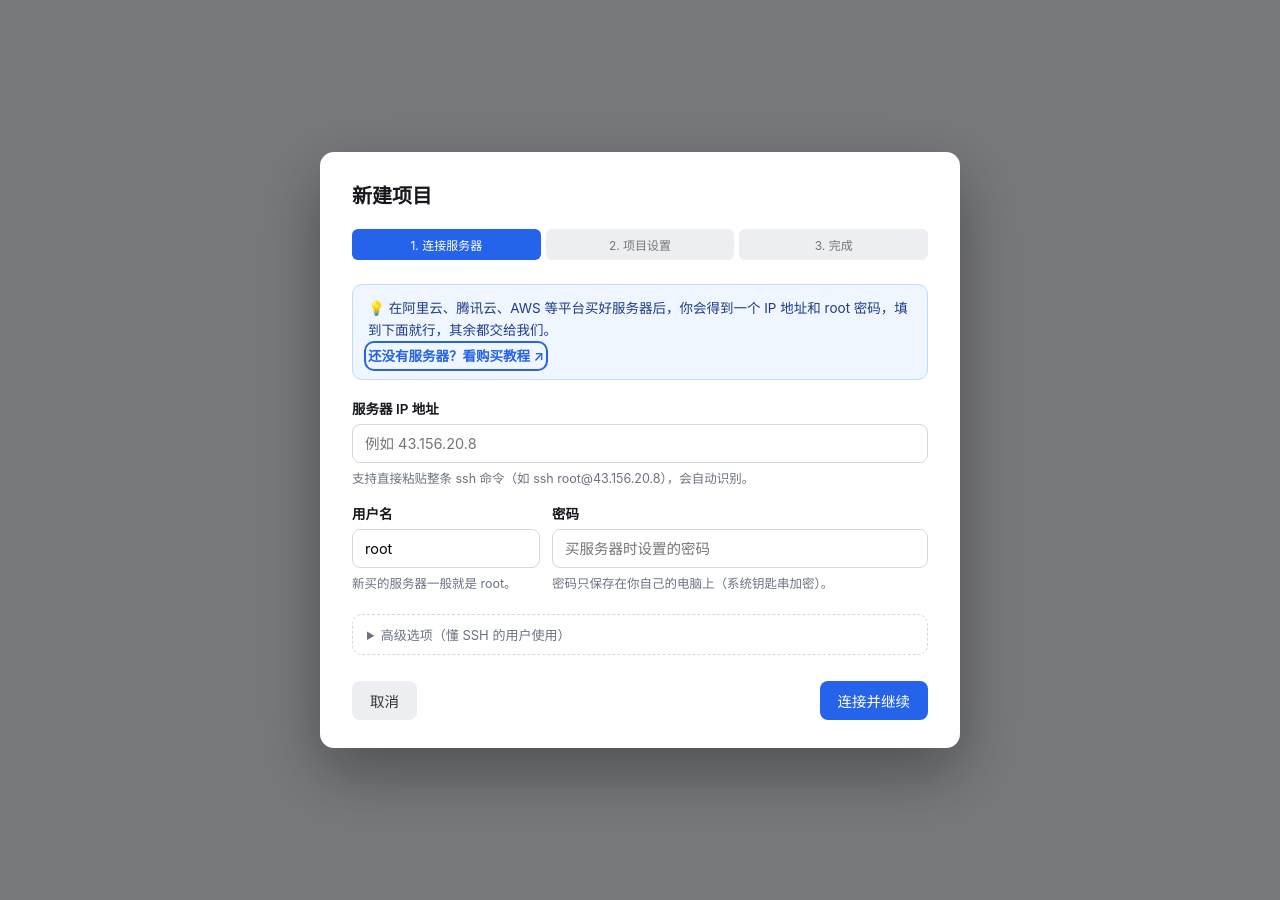
Test case: 新建项目向导（5.3） › 预设目录点「修改」才可编辑，「用推荐值」可一键还原
Step 1. Type "43.156.20.8" into the field labelled "服务器 IP 地址" → (640, 444), box x1=352 y1=424 x2=928 y2=463
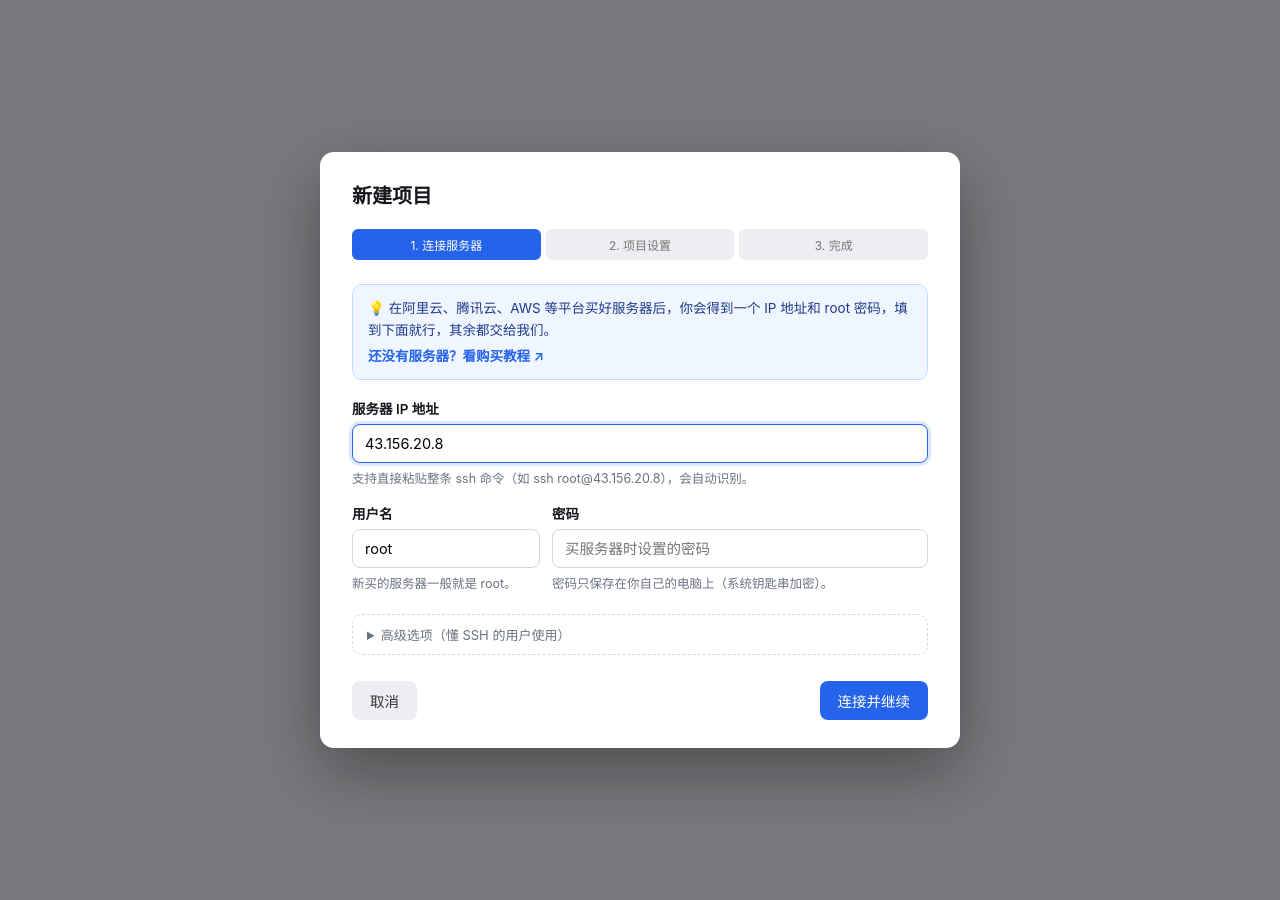
Step 2. Type "hunter2" into the password field labelled "密码" → (740, 549), box x1=552 y1=529 x2=928 y2=568
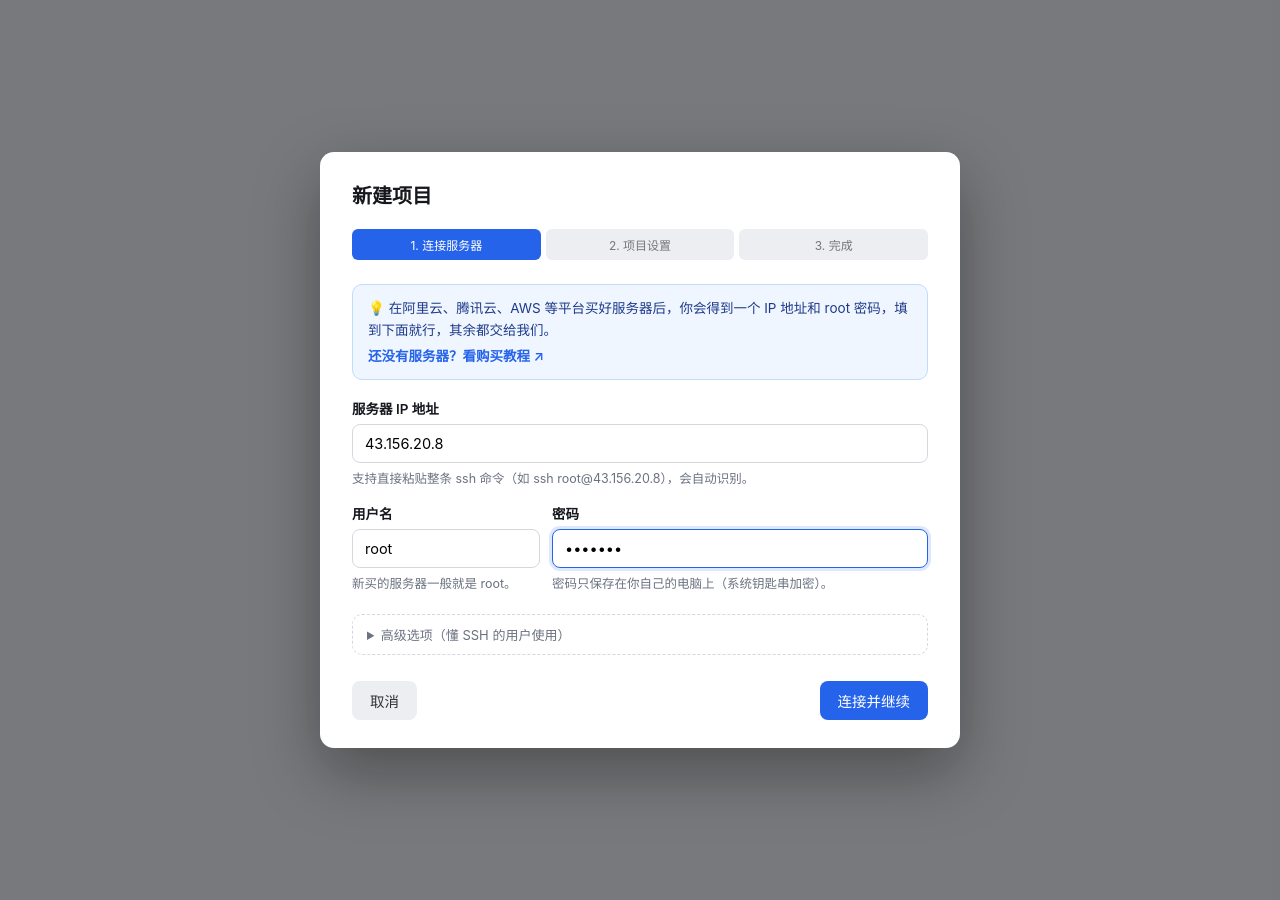
Step 3. Click the button "连接并继续" → (874, 701), box x1=820 y1=681 x2=928 y2=720
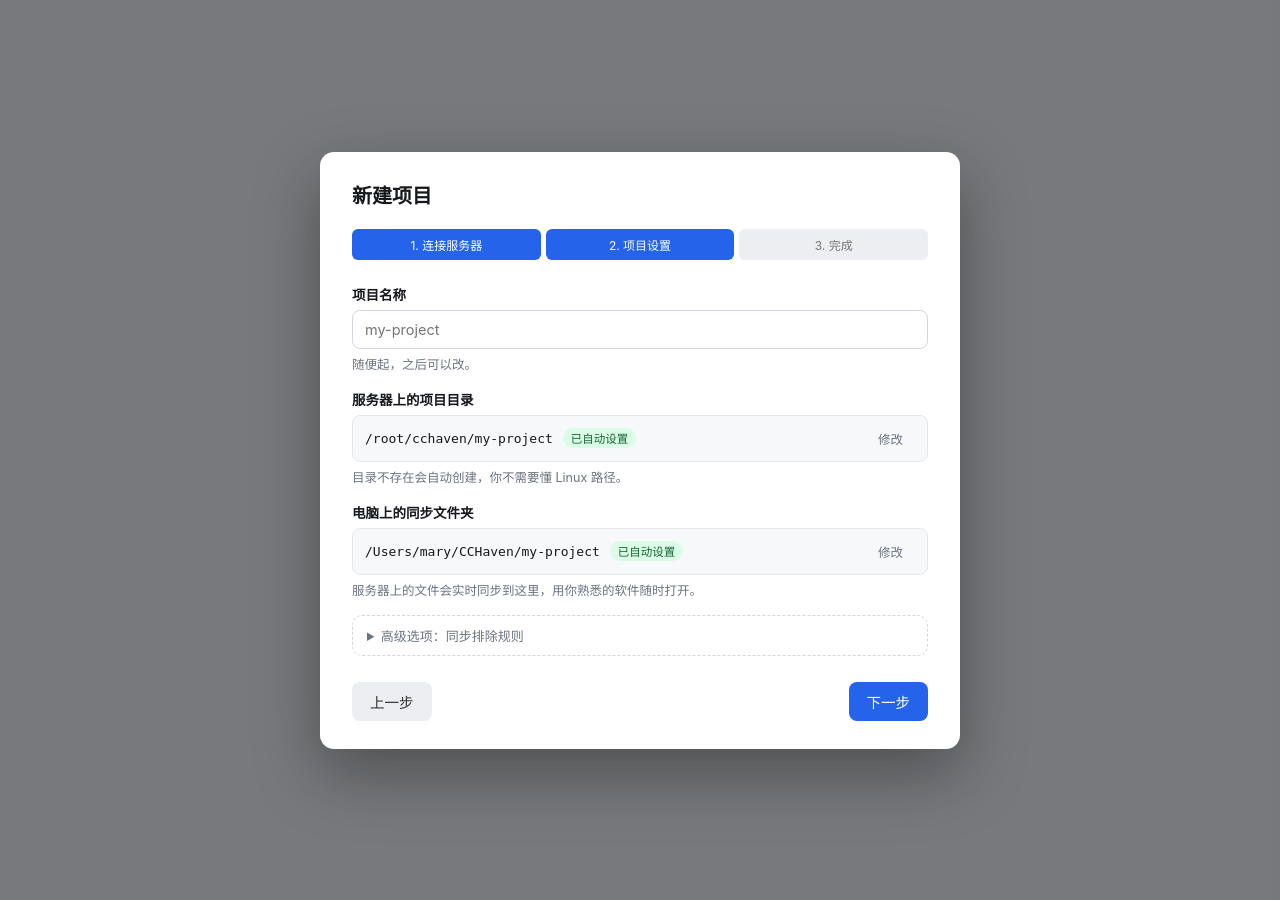
Step 4. Type "api" into the field labelled "项目名称" → (640, 329), box x1=352 y1=310 x2=928 y2=348
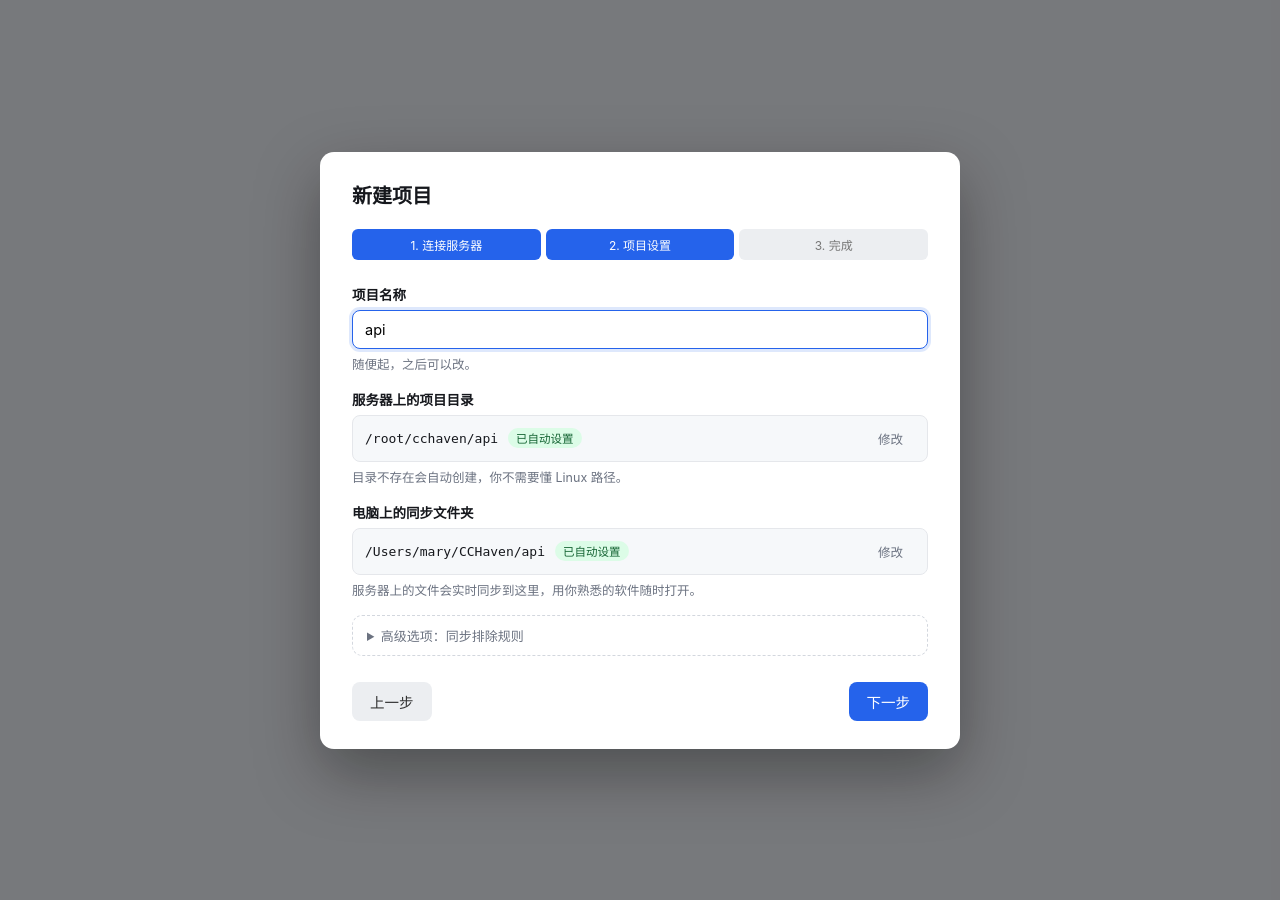
Step 5. Click the button "修改" in the row of "/root/cchaven/api" → (890, 438), box x1=866 y1=424 x2=915 y2=452
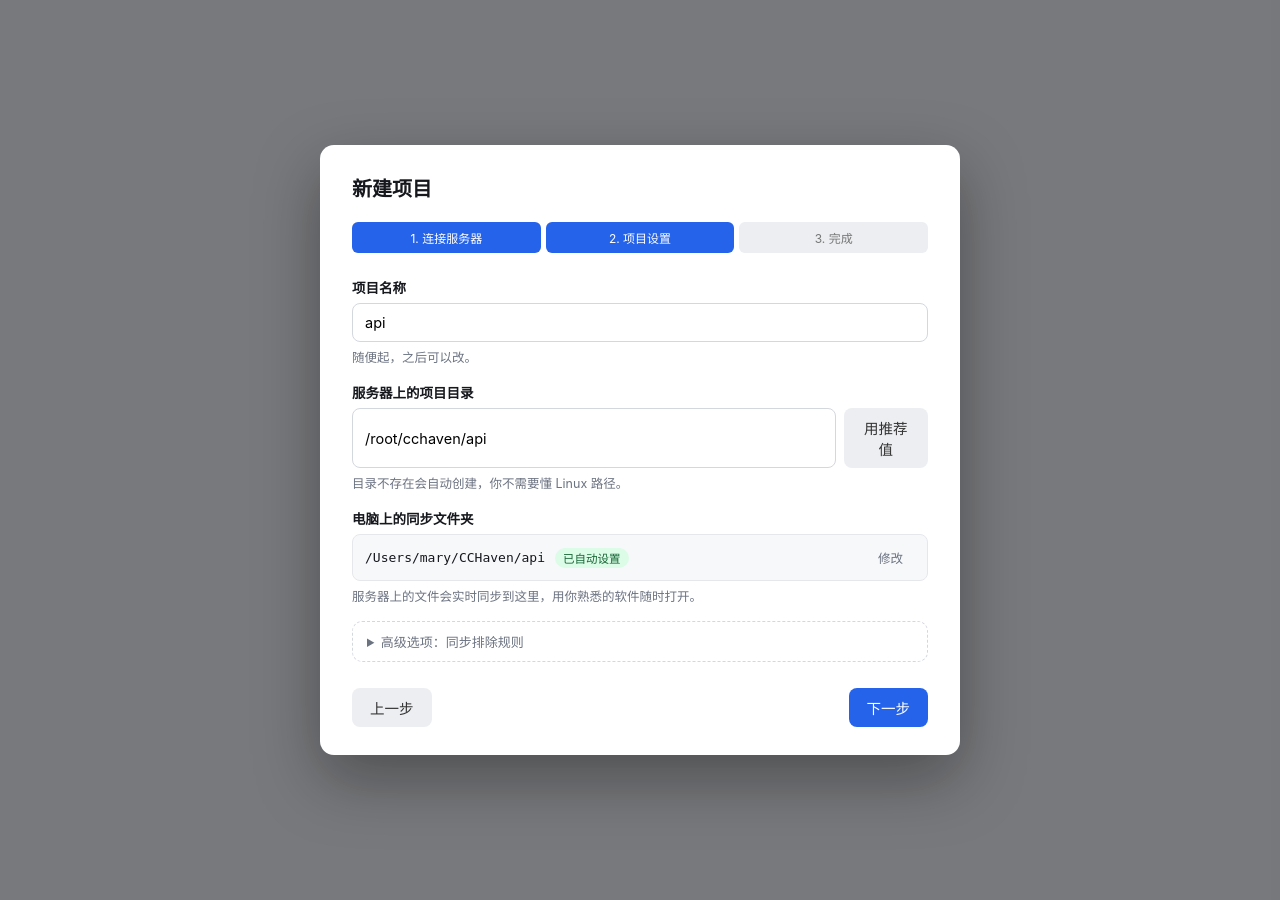
Step 6. Replace the text in the field labelled "服务器上的项目目录" with "/srv/api" → (594, 438), box x1=352 y1=408 x2=836 y2=468
Step 7. Click the button "用推荐值" → (886, 438), box x1=844 y1=408 x2=928 y2=468
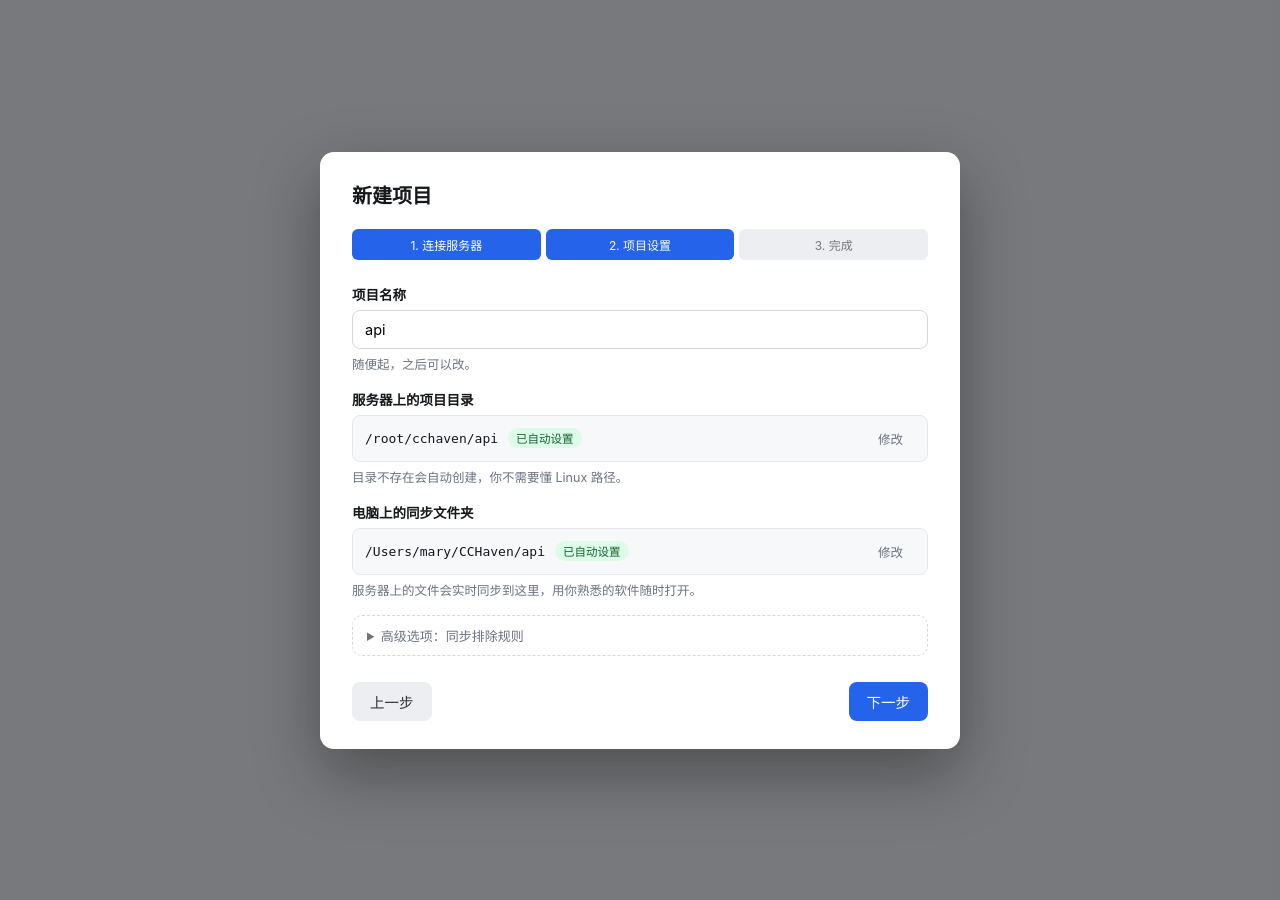
Now the text named "服务器上的项目目录" reads "/root/cchaven/api", box x1=365 y1=430 x2=498 y2=446
